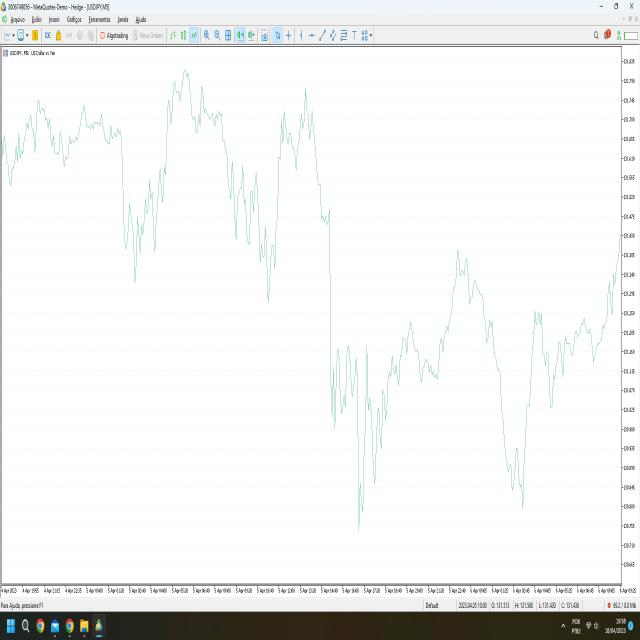fundo_duplo: (491, 363, 539, 535)
topo_duplo: (271, 84, 331, 231)
